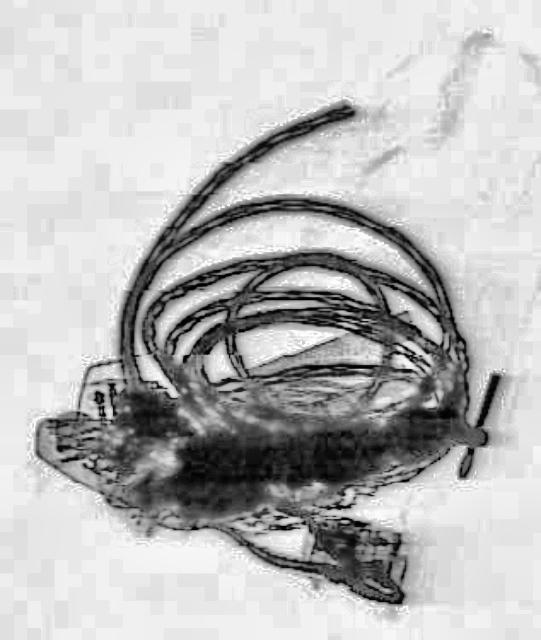Pliers: (208, 466, 420, 630)
